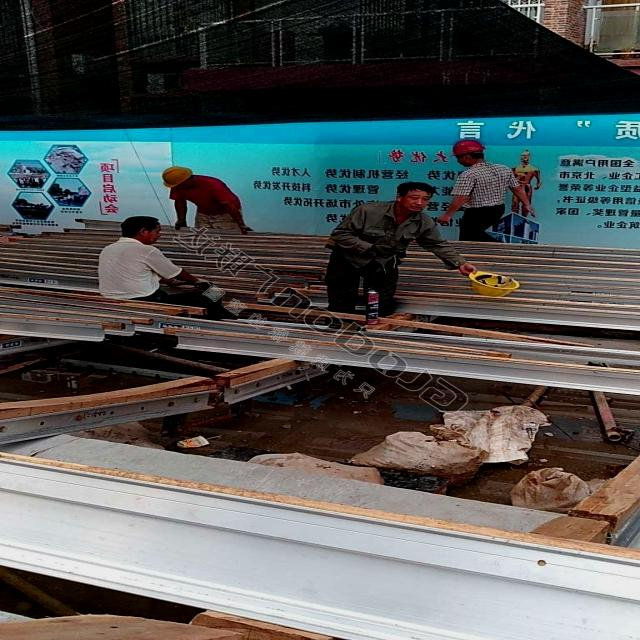face_nomask: (392, 196, 437, 213), (144, 226, 162, 241)
hand_noglove: (457, 263, 481, 279), (517, 204, 539, 221)
head_helmet: (466, 274, 520, 292), (157, 167, 190, 187), (448, 141, 486, 153)
head_nohelmet: (396, 182, 440, 197), (120, 213, 159, 226)
person: (325, 182, 427, 312), (100, 219, 185, 305), (450, 138, 506, 230), (171, 166, 237, 224)
